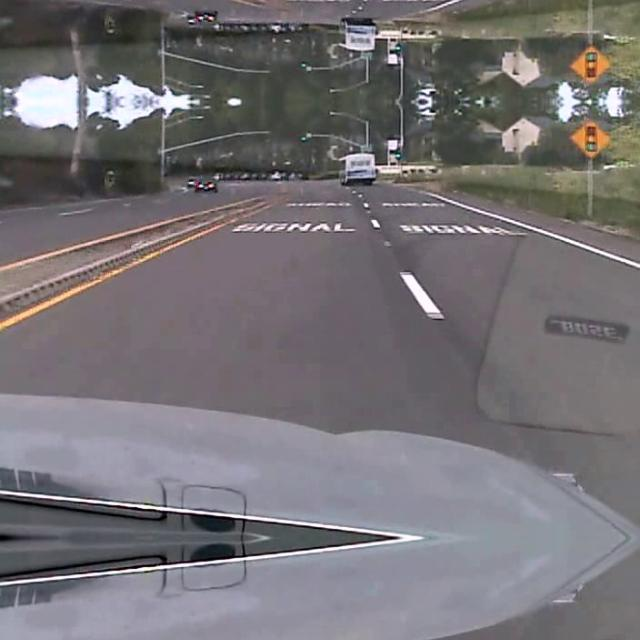signalAhead: (570, 118, 610, 156), (570, 46, 610, 84)
